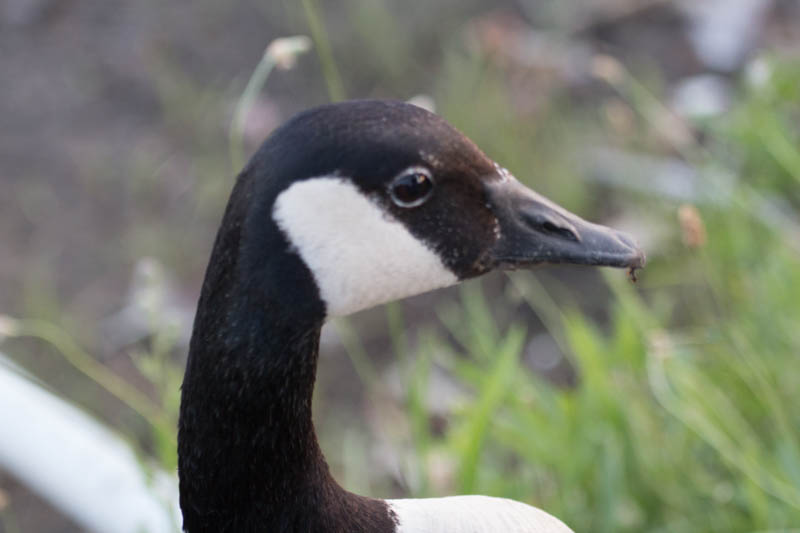goose-head: (191, 99, 648, 327)
